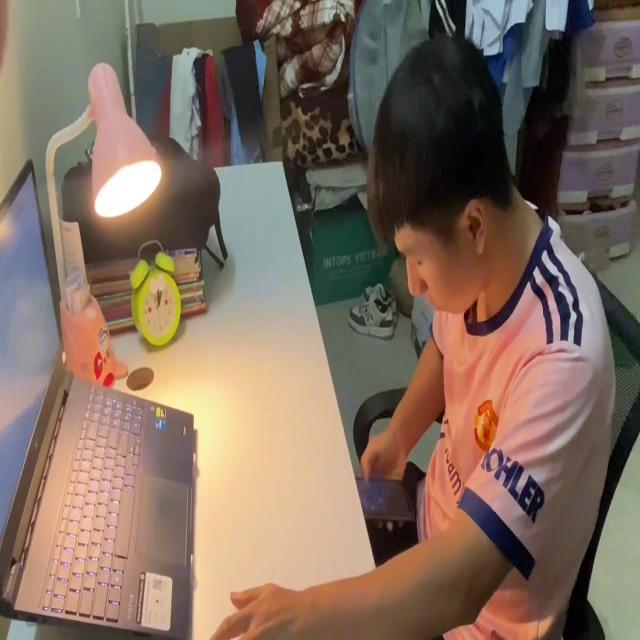laptop: (0, 146, 199, 640)
phone: (348, 472, 414, 522)
student: (210, 28, 614, 640)
